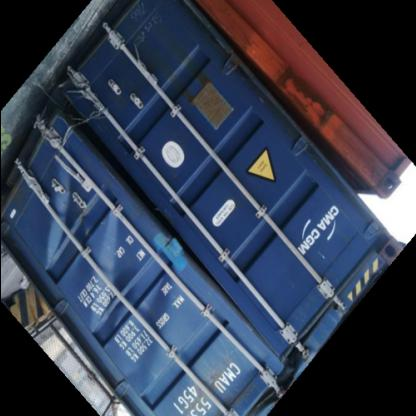Damage: (17, 92, 171, 348), (256, 324, 301, 415)
